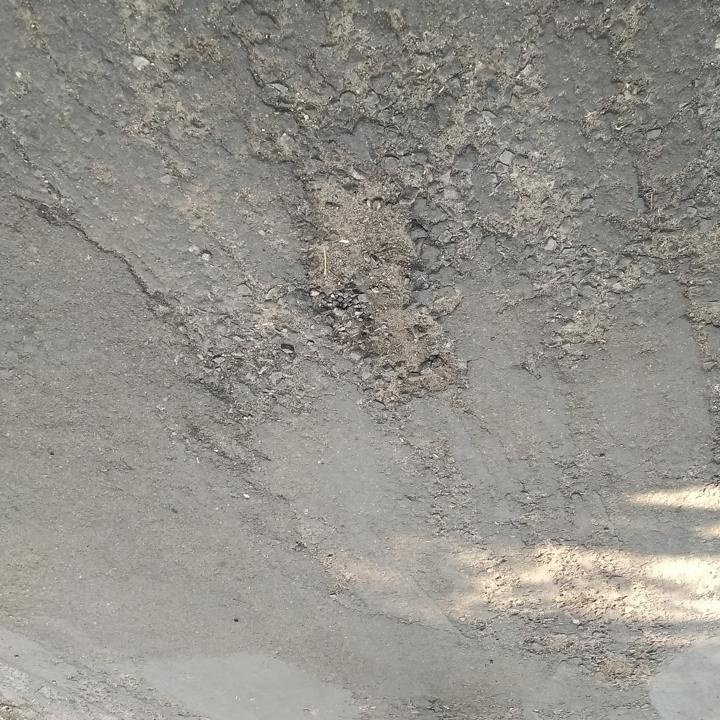pothole: (292, 167, 475, 408), (191, 317, 300, 412)
